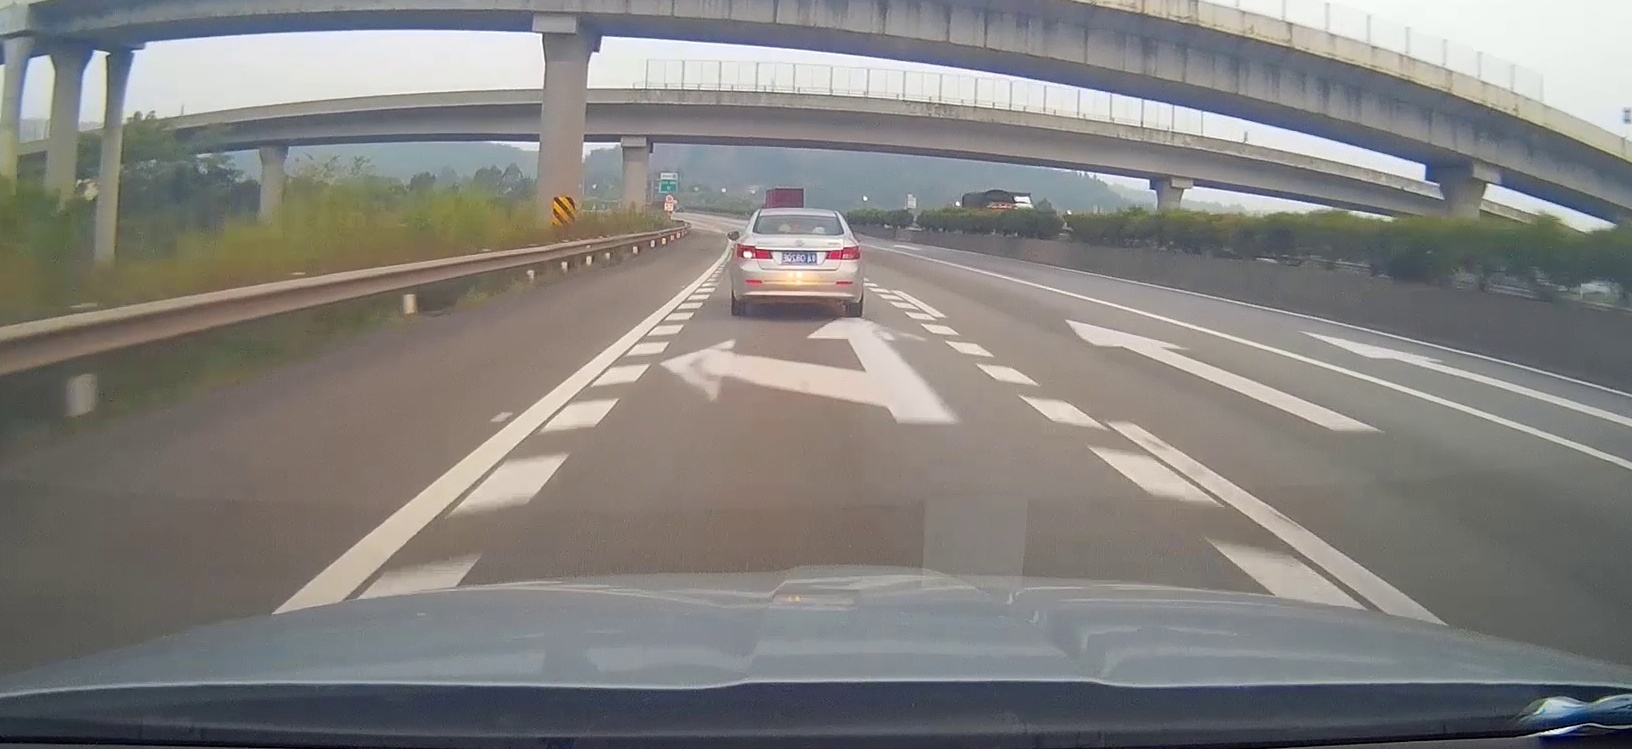L_light: (736, 243, 773, 260)
R_light: (825, 246, 861, 260)
T_light: (787, 231, 812, 234)
day-left: (730, 208, 864, 317)
